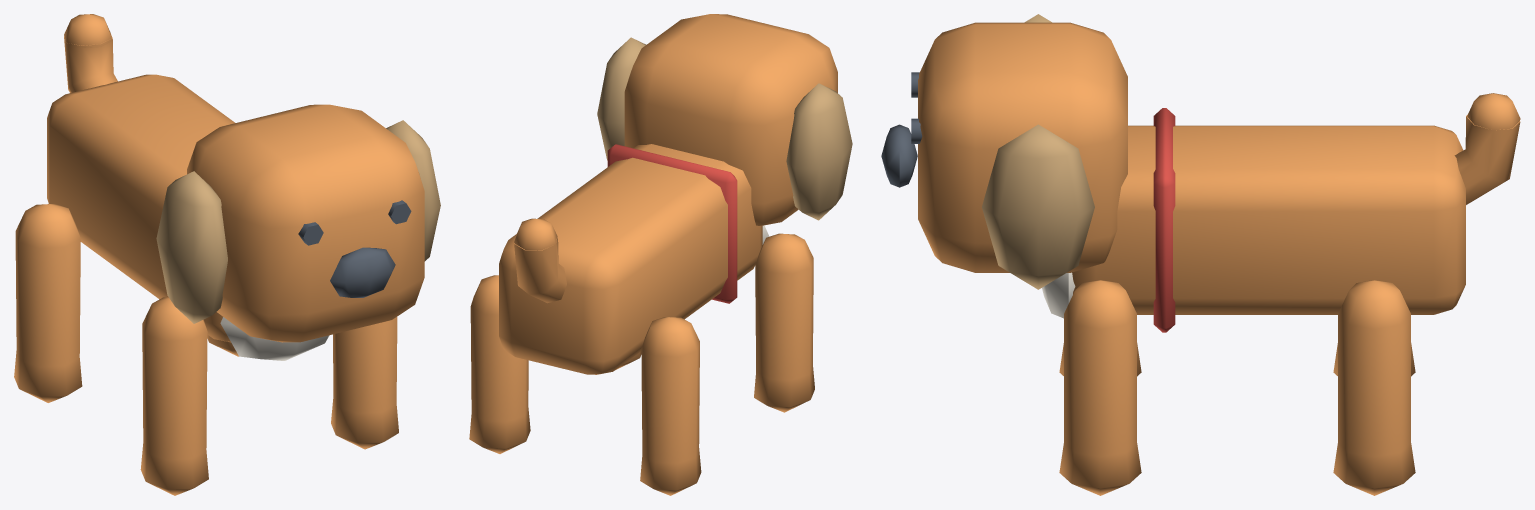
The model's file is walker_dog.glb.
3 renders of one model, left to right at view 1: azimuth 30°, elevation 25°; view 2: azimuth 150°, elevation 25°; view 3: azimuth 270°, elevation 25°, orthographic. The views are drawn at different scales.
Parts seen in each view (by area): view 1: walker_dog_structure, leg_bl, leg_fl, leg_fr; view 2: walker_dog_structure, leg_bl, leg_fl, leg_br; view 3: walker_dog_structure, leg_br, leg_fr.
Part boxes in pixels (left/top/right/bottom): walker_dog_structure: left=47, top=14, right=440, bottom=360; leg_bl: left=14, top=204, right=82, bottom=402; leg_fl: left=140, top=297, right=208, bottom=495; leg_fr: left=331, top=317, right=398, bottom=449; walker_dog_structure: left=499, top=14, right=852, bottom=374; leg_bl: left=640, top=317, right=701, bottom=495; leg_fl: left=754, top=233, right=814, bottom=412; leg_br: left=469, top=275, right=530, bottom=453; walker_dog_structure: left=881, top=14, right=1520, bottom=332; leg_br: left=1333, top=280, right=1415, bottom=495; leg_fr: left=1059, top=280, right=1141, bottom=495.
Bounding box in the file's own units: 0.36 × 0.48 × 0.7.
